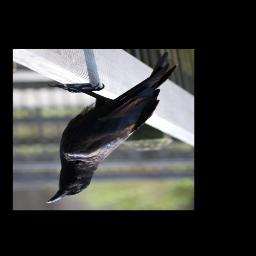Crow: (46, 52, 179, 204)
